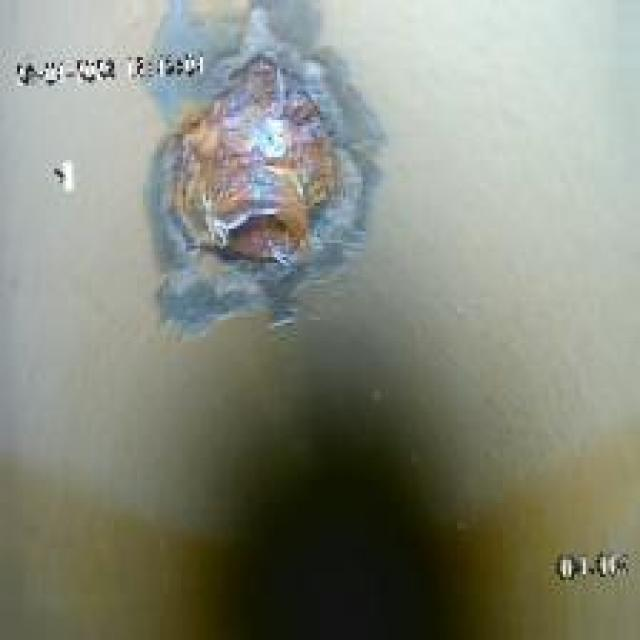ferrule: (157, 95, 352, 272)
